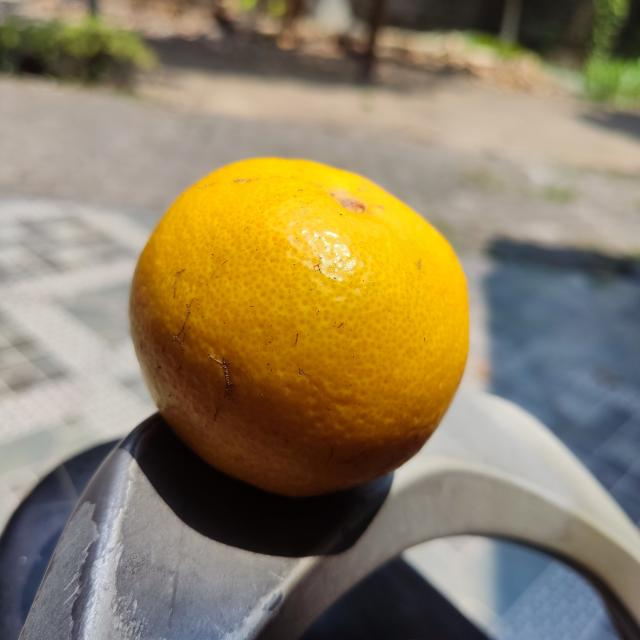orange: (125, 156, 472, 495)
